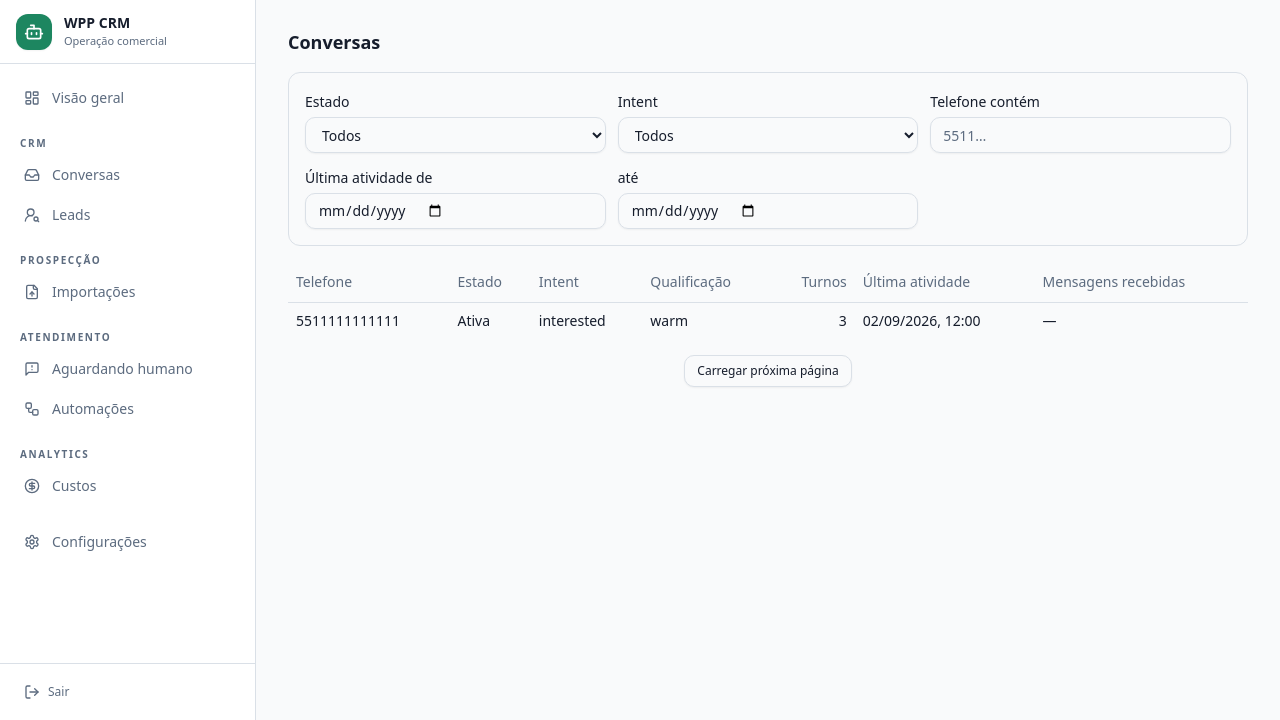
ConversationsRoute › carrega a próxima página usando o cursor e desabilita no fim
Click the button "Carregar próxima página".
click(768, 370)  # box x1=684 y1=354 x2=852 y2=386
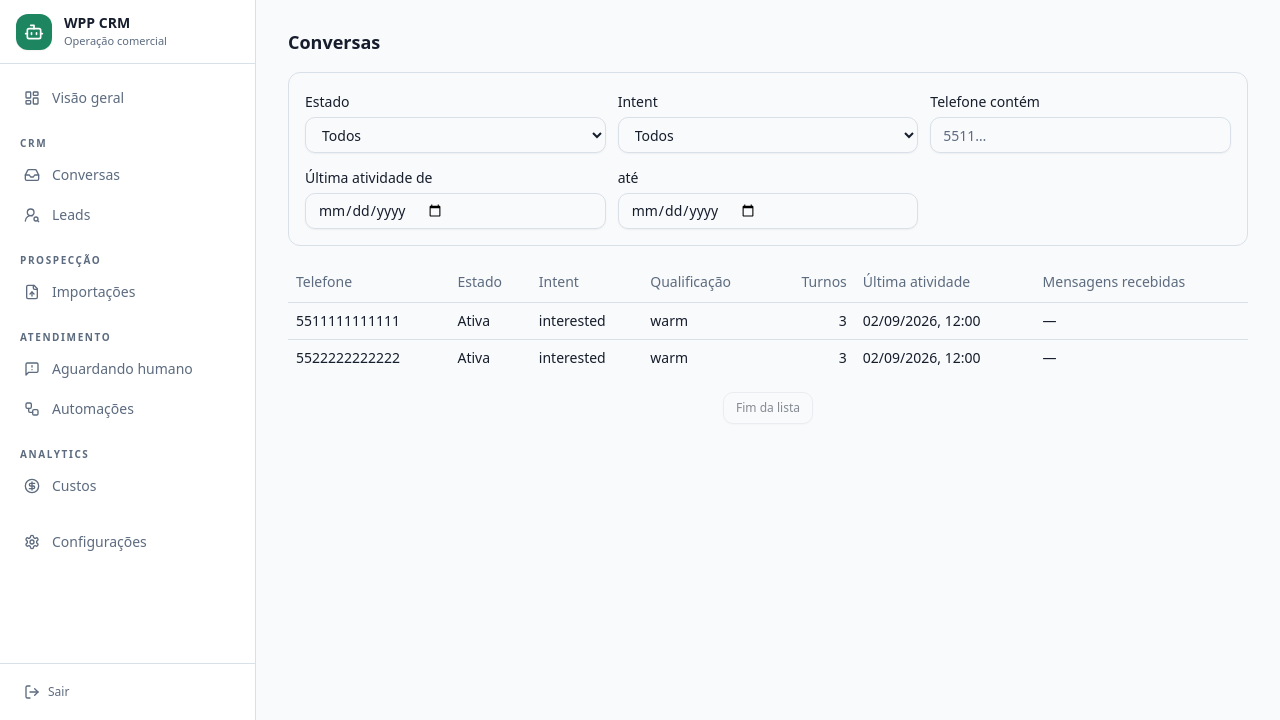
Expected: the text "5522222222222" is shown, x1=288 y1=339 x2=450 y2=376
Expected: the button "Fim da lista" is disabled, x1=723 y1=392 x2=813 y2=424
